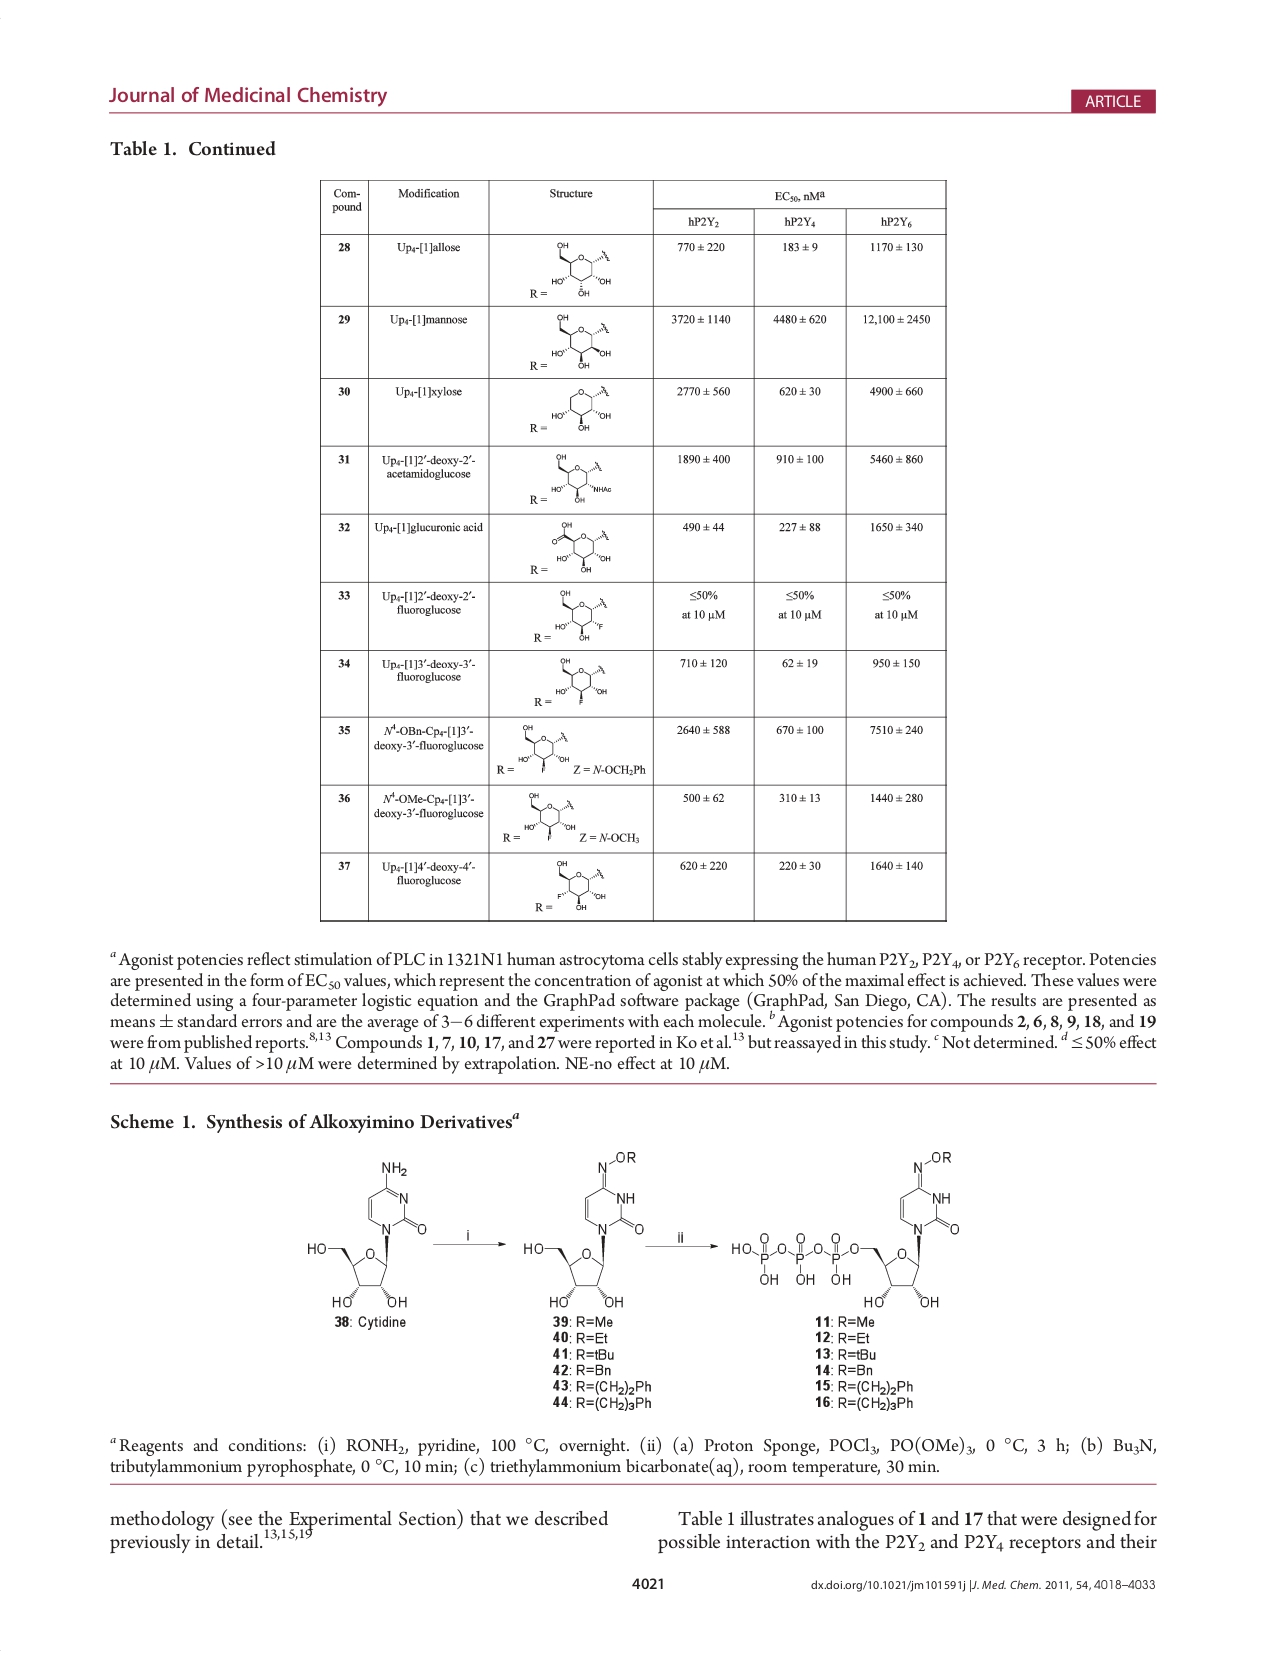exist_molecular: (730, 1149, 963, 1313), (521, 1146, 646, 1310), (301, 1157, 430, 1313), (549, 310, 616, 372), (548, 239, 613, 299), (548, 520, 614, 575), (547, 451, 612, 505), (552, 588, 610, 642), (551, 383, 613, 432), (521, 789, 577, 843), (515, 722, 572, 775), (553, 858, 610, 911), (552, 656, 610, 707)
